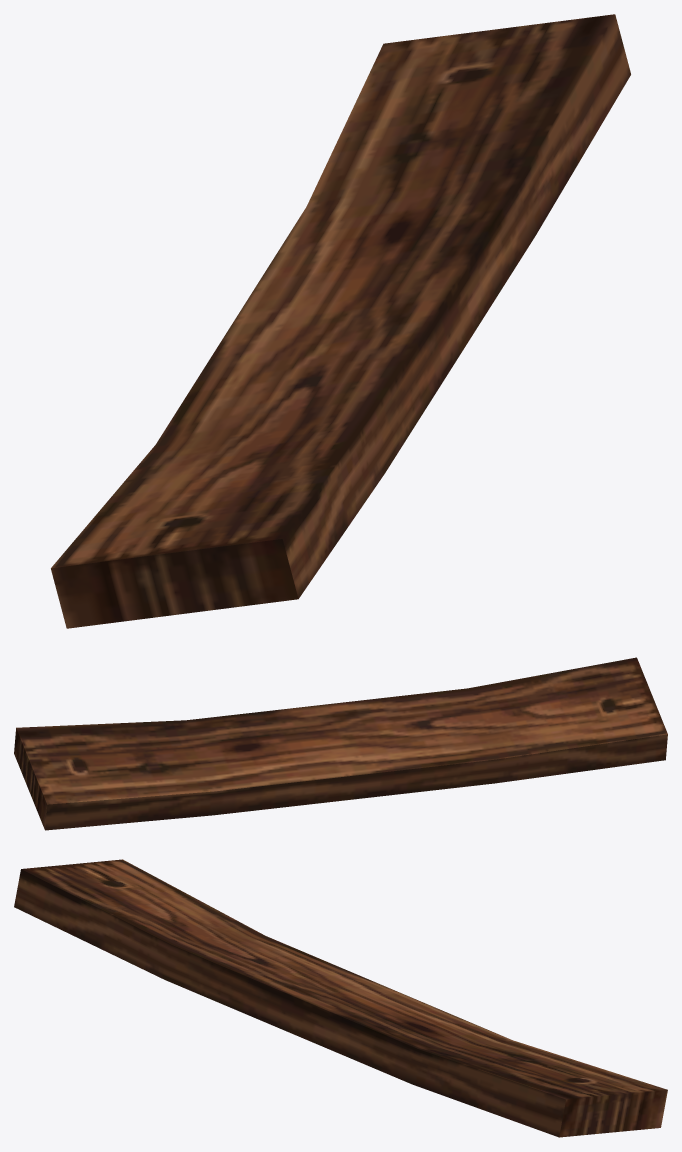
File: OVERHILL_A_01_WOOD_BOARD_21.fbx
3 views of the same model, one above another, from view 1: azimuth 30°, elevation 25°; view 2: azimuth 150°, elevation 25°; view 3: azimuth 270°, elevation 25° (orthographic). The views are drawn at different scales.
Parts seen in each view (by area): view 1: OVERHILL_A_01_WOOD_BOARD_21; view 2: OVERHILL_A_01_WOOD_BOARD_21; view 3: OVERHILL_A_01_WOOD_BOARD_21.
Part boxes in pixels (left/top/right/bottom): OVERHILL_A_01_WOOD_BOARD_21: left=51, top=14, right=630, bottom=628; OVERHILL_A_01_WOOD_BOARD_21: left=14, top=657, right=667, bottom=830; OVERHILL_A_01_WOOD_BOARD_21: left=14, top=859, right=667, bottom=1137.
Size of the model in its own units: 15489 by 2006 by 15489.
Materials: 1 (1 with a texture image).
